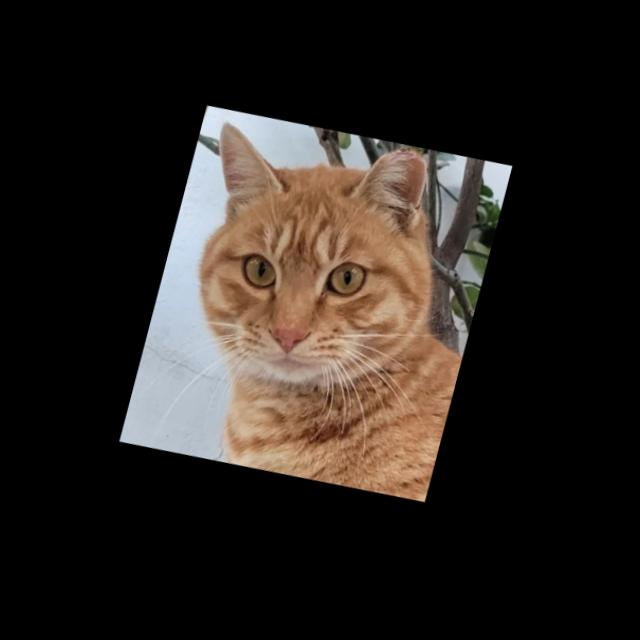animals: (159, 101, 468, 422)
